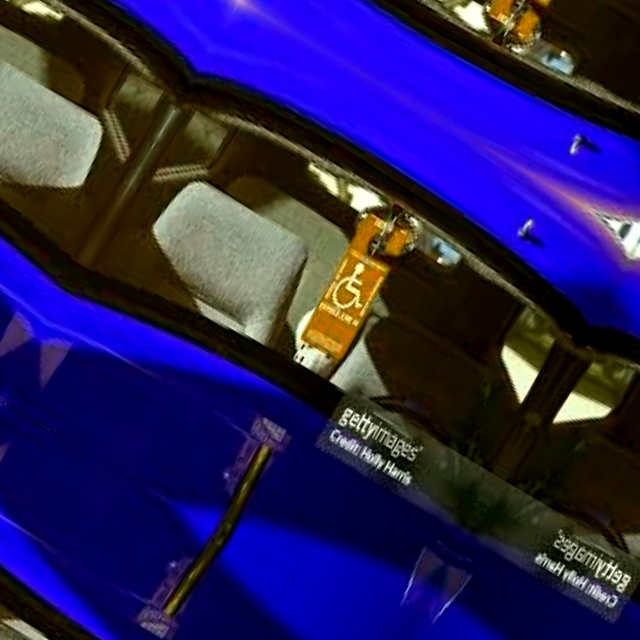ISA: (328, 259, 378, 315)
